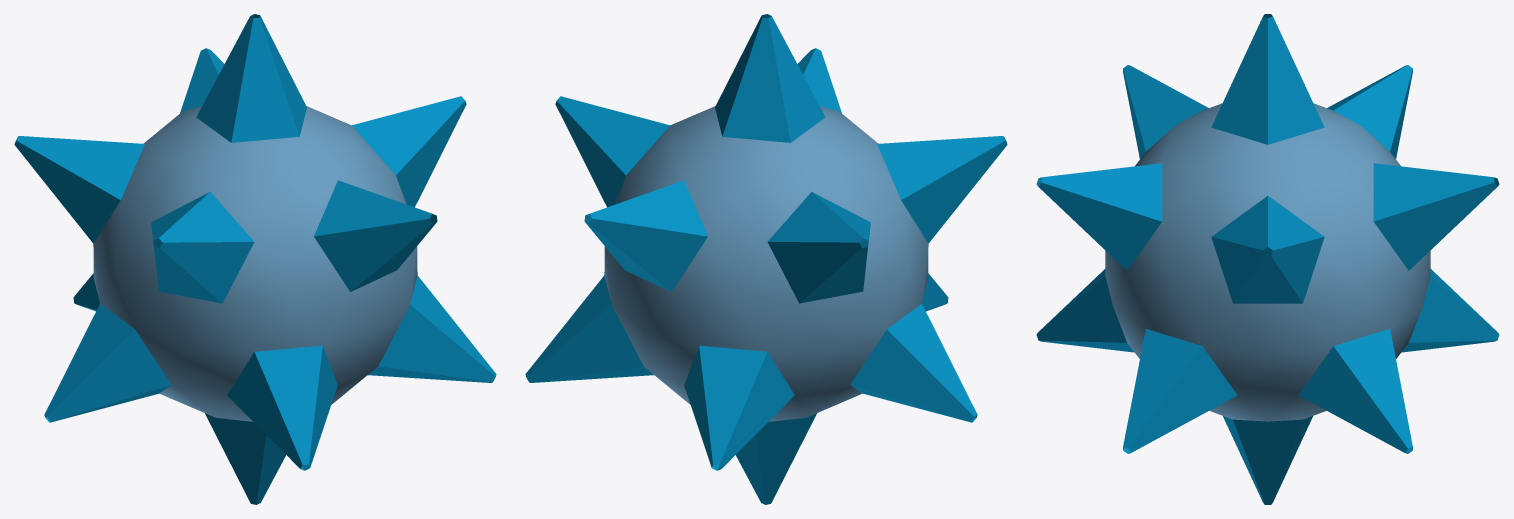
File: Mine.fbx
The picture shows the model from 3 angles, left to right: view 1: azimuth 30°, elevation 25°; view 2: azimuth 150°, elevation 25°; view 3: azimuth 270°, elevation 25°; orthographic projection.
Visible parts, largest first — view 1: GeoSphere01; view 2: GeoSphere01; view 3: GeoSphere01.
Part boxes in pixels (left/top/right/bottom): GeoSphere01: left=14, top=14, right=496, bottom=504; GeoSphere01: left=525, top=14, right=1007, bottom=504; GeoSphere01: left=1036, top=14, right=1499, bottom=504.
Size of the model in its own units: 2.93 by 3.25 by 2.8.
